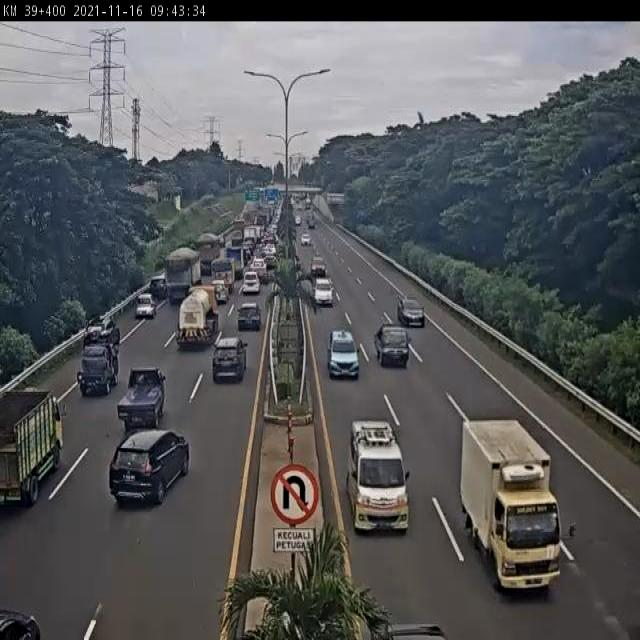Car: (108, 432, 192, 510), (117, 369, 167, 431), (77, 343, 119, 396), (326, 329, 360, 380), (374, 323, 411, 368), (212, 336, 248, 382), (0, 608, 41, 640), (83, 314, 120, 348), (380, 622, 446, 640), (397, 296, 425, 328), (237, 301, 262, 331), (313, 278, 334, 307), (135, 292, 157, 319), (150, 274, 168, 300), (210, 278, 228, 304), (242, 271, 260, 296), (250, 257, 267, 283), (310, 257, 326, 277), (301, 233, 311, 245)
Truck: (461, 418, 571, 593), (0, 389, 62, 508), (346, 419, 410, 534), (176, 285, 220, 347), (167, 246, 201, 306)
